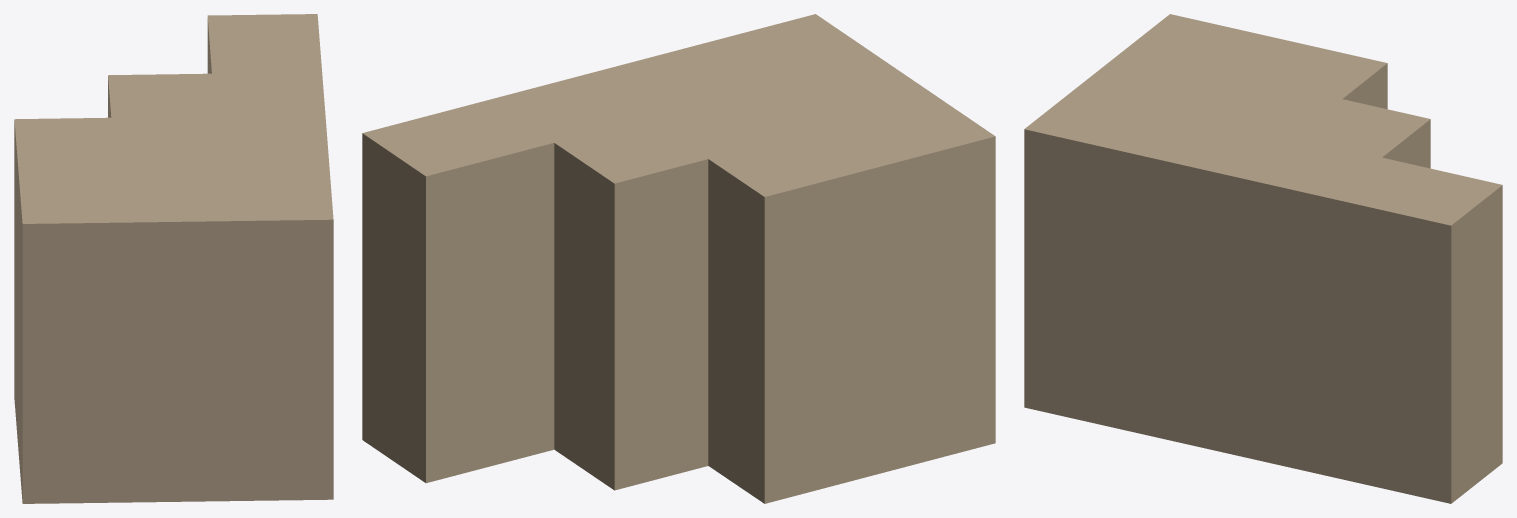
Rendered from bld_99532096.dae.
3 renders of one model, left to right at view 1: azimuth 30°, elevation 25°; view 2: azimuth 150°, elevation 25°; view 3: azimuth 270°, elevation 25°, orthographic. The views are drawn at different scales.
Parts seen in each view (by area): view 1: bld_99532096; view 2: bld_99532096; view 3: bld_99532096.
Part boxes in pixels (left/top/right/bottom): bld_99532096: left=14, top=14, right=333, bottom=503; bld_99532096: left=362, top=14, right=995, bottom=503; bld_99532096: left=1024, top=14, right=1502, bottom=503.
Size of the model in its own units: 13.05 by 12.47 by 8.
